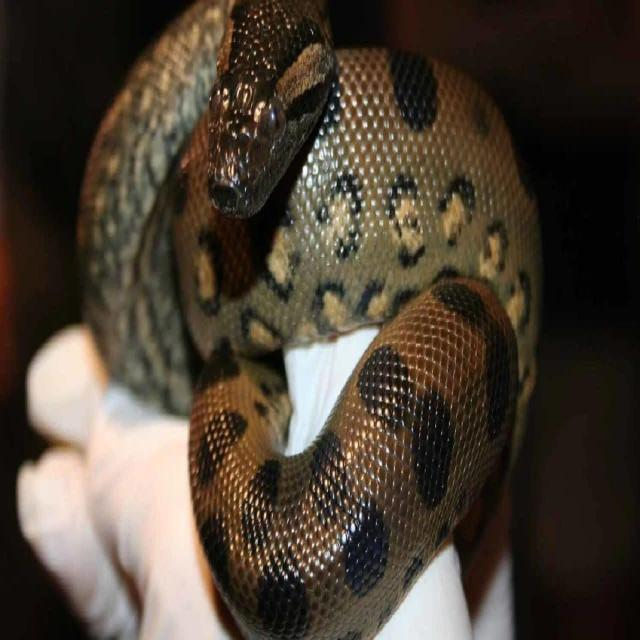Snake: (80, 0, 554, 590)
